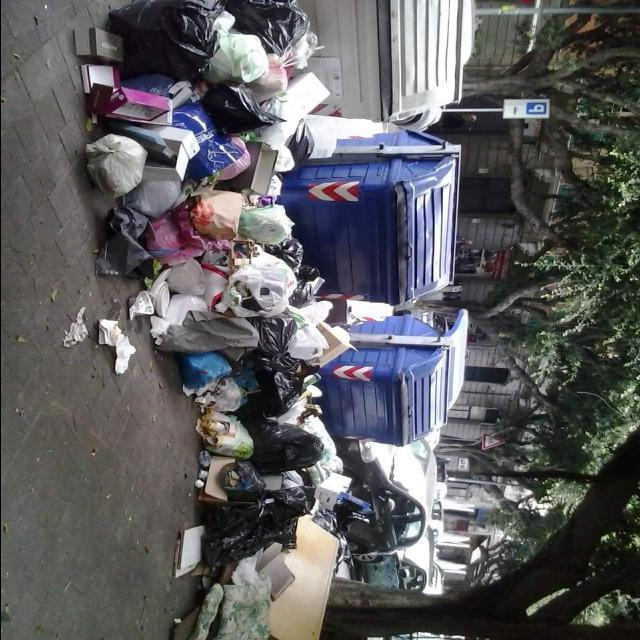Trashbag: (196, 488, 312, 569), (248, 310, 330, 417), (107, 0, 221, 75), (227, 0, 320, 54), (202, 79, 285, 138), (242, 419, 328, 475), (267, 235, 312, 273)
